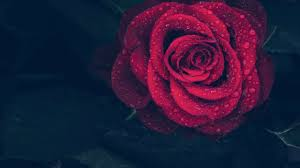rose: (127, 1, 264, 136)
